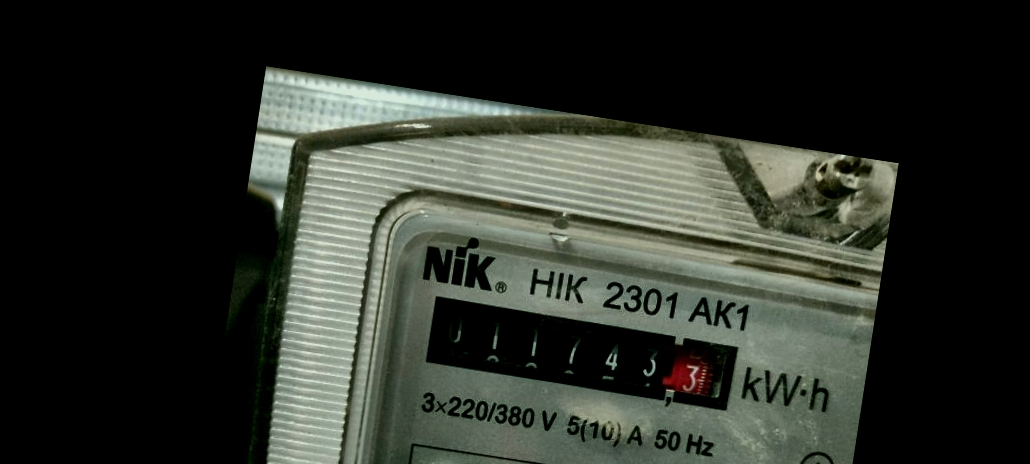0: (443, 309, 467, 347)
1: (525, 322, 545, 358), (489, 317, 504, 351)
3: (637, 343, 662, 380), (679, 361, 702, 396)
4: (601, 337, 623, 373)
7: (563, 330, 586, 366)
screen: (409, 282, 754, 425)
